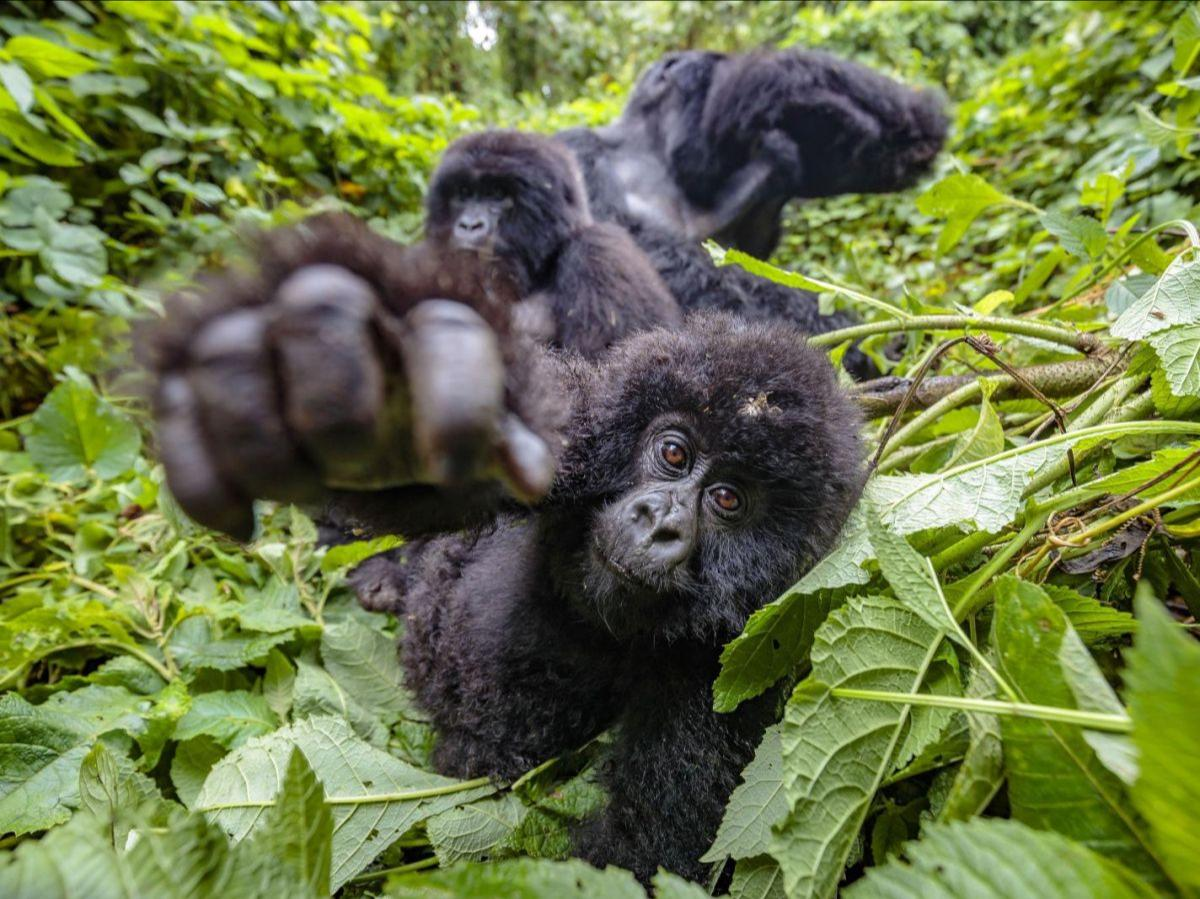goriile_montagne: (130, 215, 970, 892), (368, 110, 658, 330)
